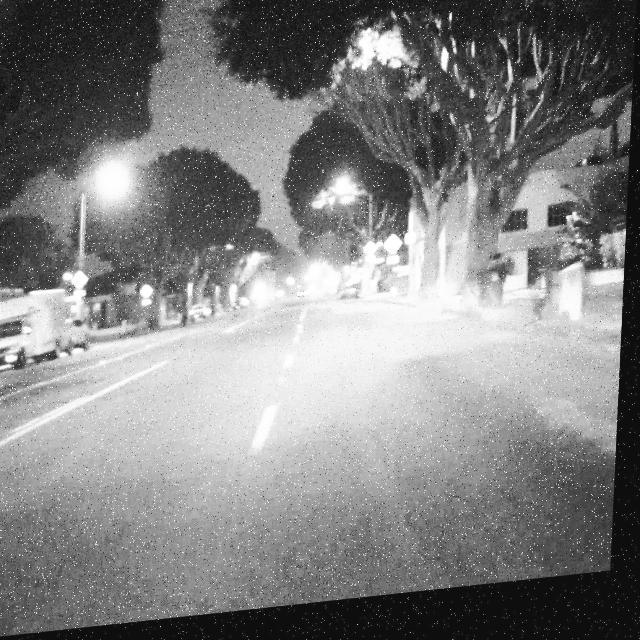Truck: (0, 289, 73, 376)
